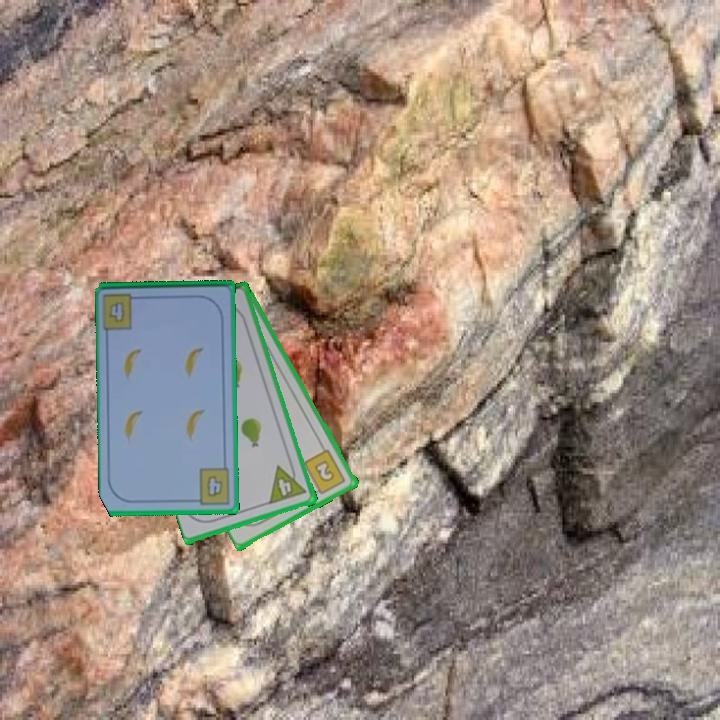2b: (300, 446, 349, 498)
4b: (190, 465, 233, 507), (106, 298, 128, 326)
4p: (266, 459, 310, 507)
